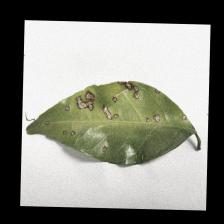canker: (62, 80, 166, 128)
